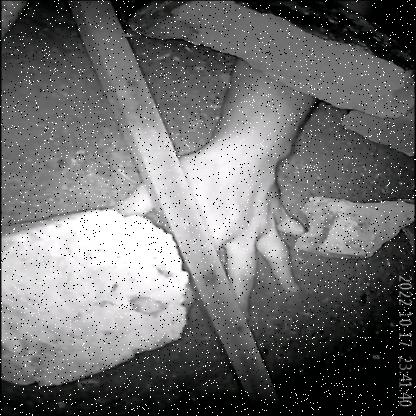hand: (68, 76, 332, 332)
